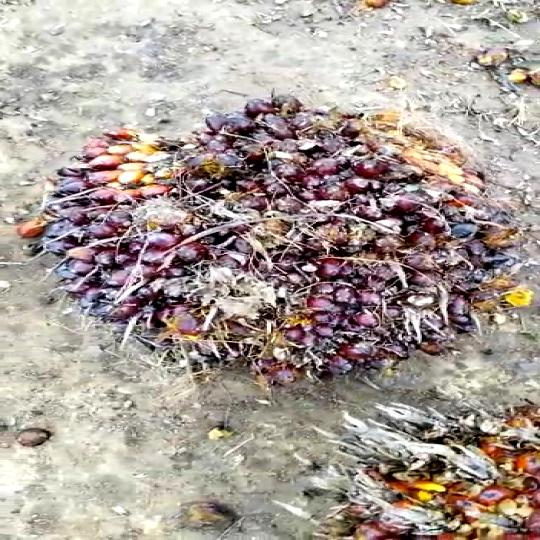mentah: (50, 80, 506, 413)
